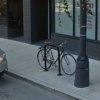Bicycle: (30, 37, 74, 84)
